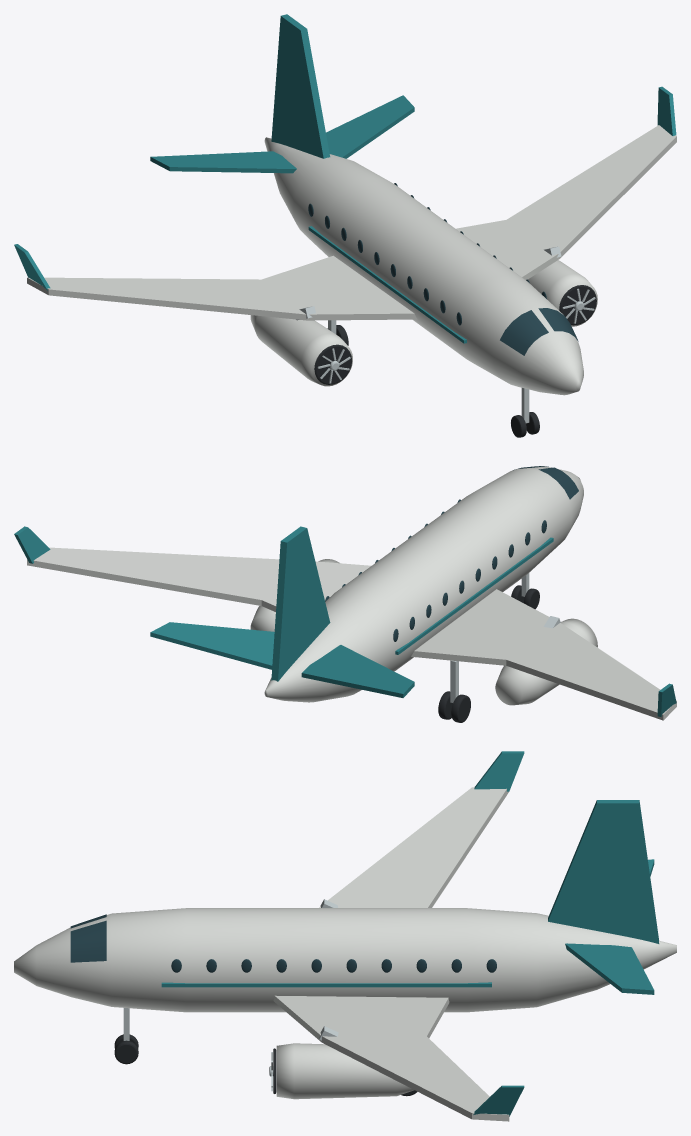
Rendered from city-plane.glb.
The picture shows the model from 3 angles, top to bottom: view 1: azimuth 30°, elevation 25°; view 2: azimuth 150°, elevation 25°; view 3: azimuth 270°, elevation 25°; orthographic projection. The views are drawn at different scales.
Visible parts, largest first — view 1: Airplane; view 2: Airplane; view 3: Airplane.
Boxes of the visible parts, bbox=[...] form: Airplane: bbox=[14, 14, 676, 437]; Airplane: bbox=[14, 466, 676, 722]; Airplane: bbox=[14, 751, 676, 1121].
Bounding box in the file's own units: 15.89 × 5.7 × 13.25.
